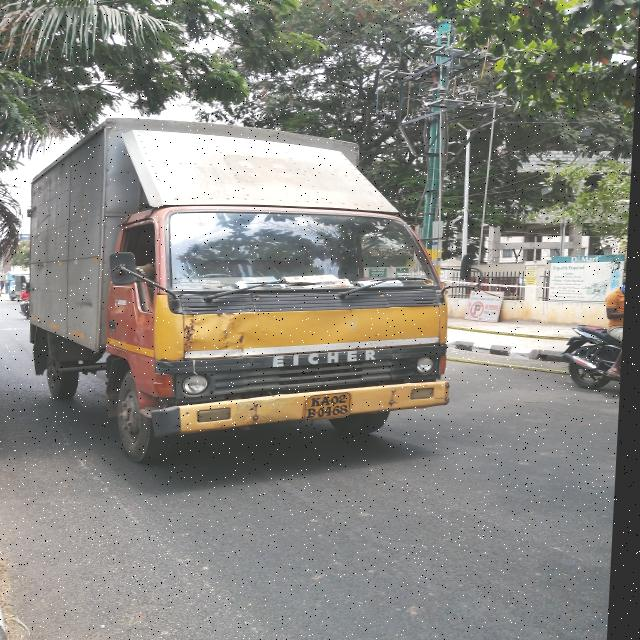plate: (302, 390, 364, 423)
